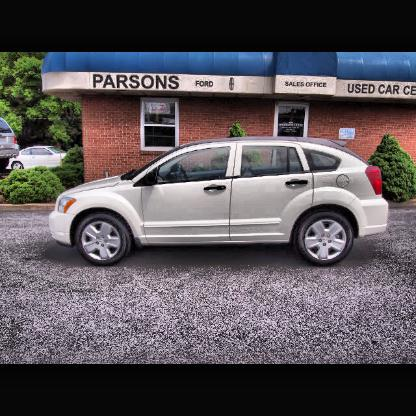Dodge Caliber Wagon 2012: (50, 142, 389, 266)
